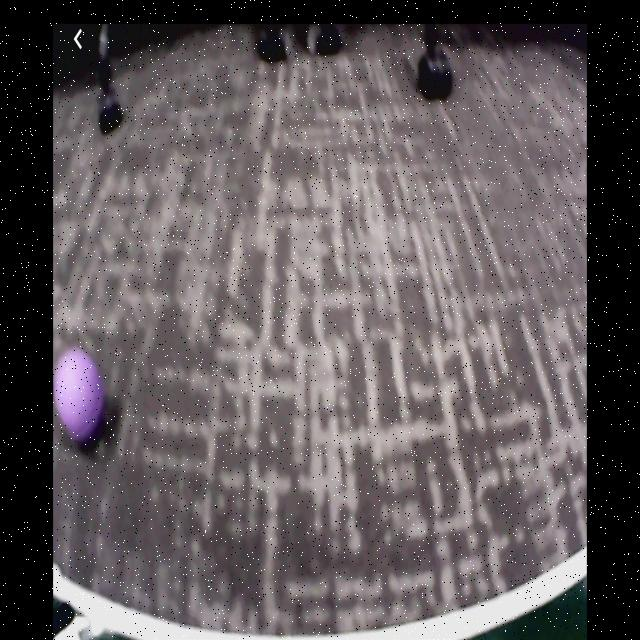ball: (54, 347, 106, 444)
